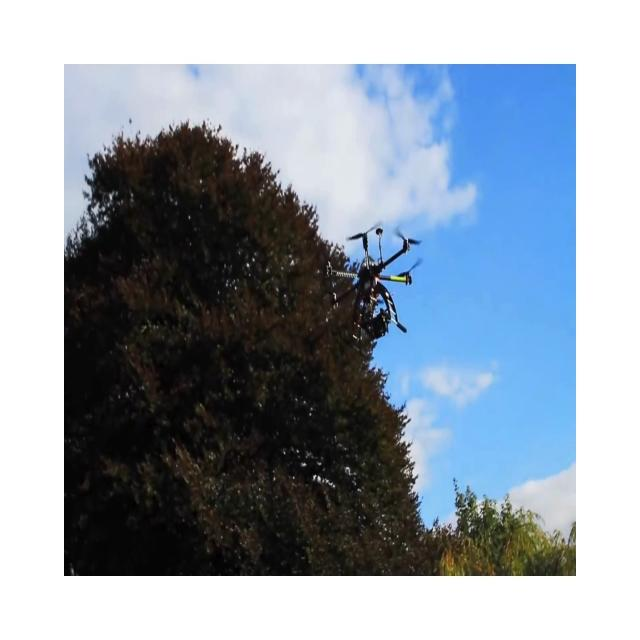drone: (324, 224, 422, 345)
